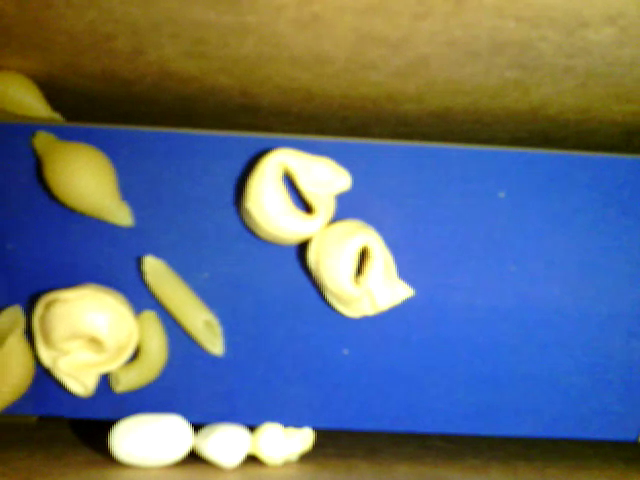elbow: (110, 305, 168, 395)
penne: (142, 254, 225, 360)
shell: (31, 131, 134, 231), (1, 301, 42, 418), (2, 70, 67, 132)
tortellini: (28, 280, 140, 398), (305, 218, 417, 321), (237, 148, 354, 246)
